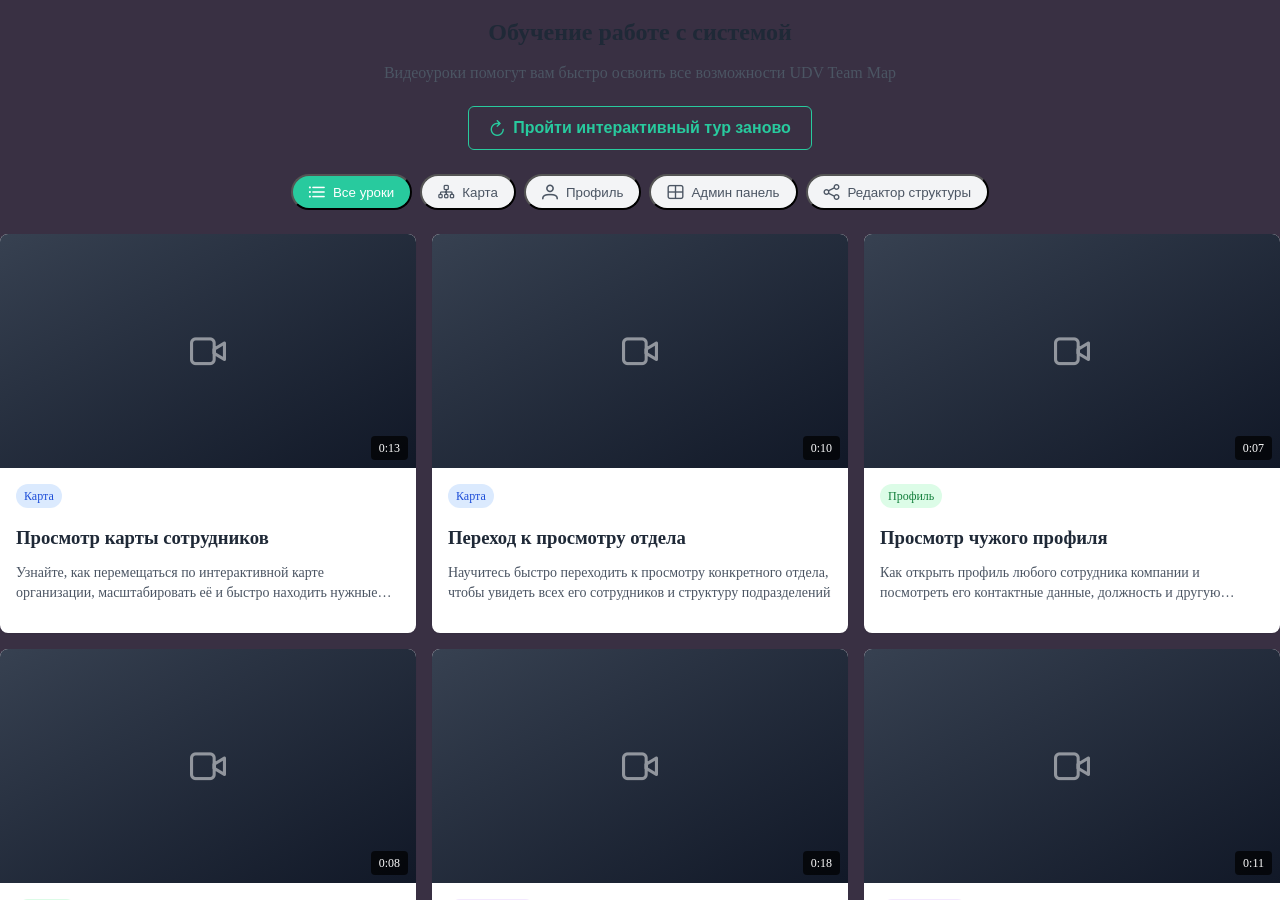
Scenario: AboutPage › TrainingContent › filters to tree category
The image size is (1280, 900).
Click the button "Редактор структуры" at (897, 192), box [806,174,989,210]
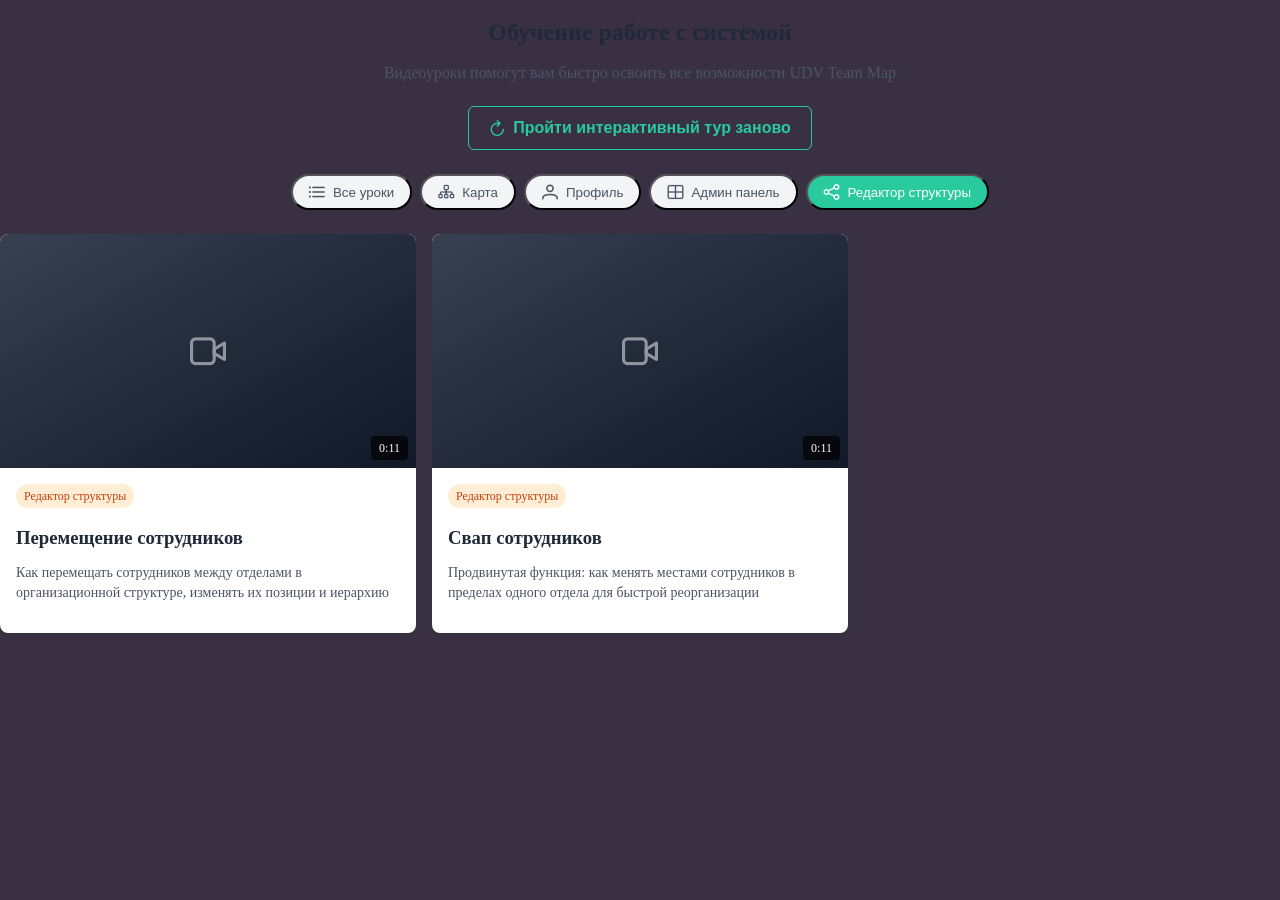
Expected: the heading "Свап сотрудников" is shown, [448,527,602,548]
Result: the heading "Просмотр карты сотрудников" is gone
